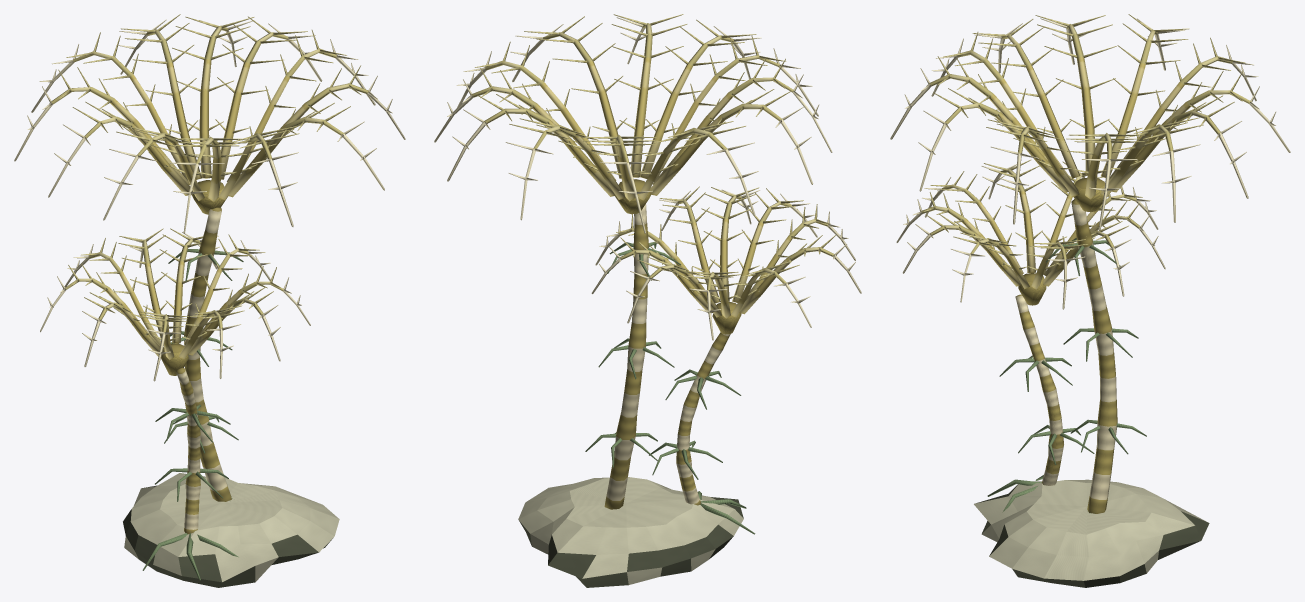
Rendered from sea_lily.glb.
3 renders of one model, left to right at view 1: azimuth 30°, elevation 25°; view 2: azimuth 150°, elevation 25°; view 3: azimuth 270°, elevation 25°, orthographic.
Visible parts, largest first — view 1: sea_lily; view 2: sea_lily; view 3: sea_lily.
Boxes of the visible parts, x1,y1,x2,y2 form: sea_lily: [14, 14, 405, 587]; sea_lily: [434, 14, 861, 587]; sea_lily: [890, 14, 1290, 587].
Size of the model in its own units: 2.08 by 2.64 by 2.08.
Materials: 1 (1 with a texture image).
